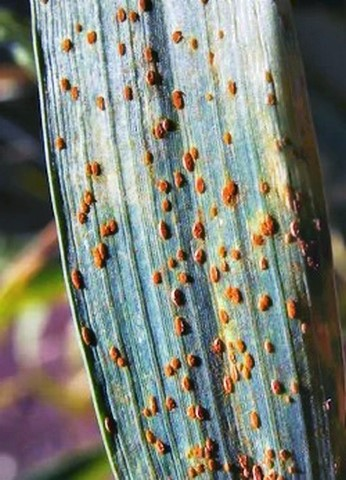Leaf Rust: (49, 54, 328, 461)
